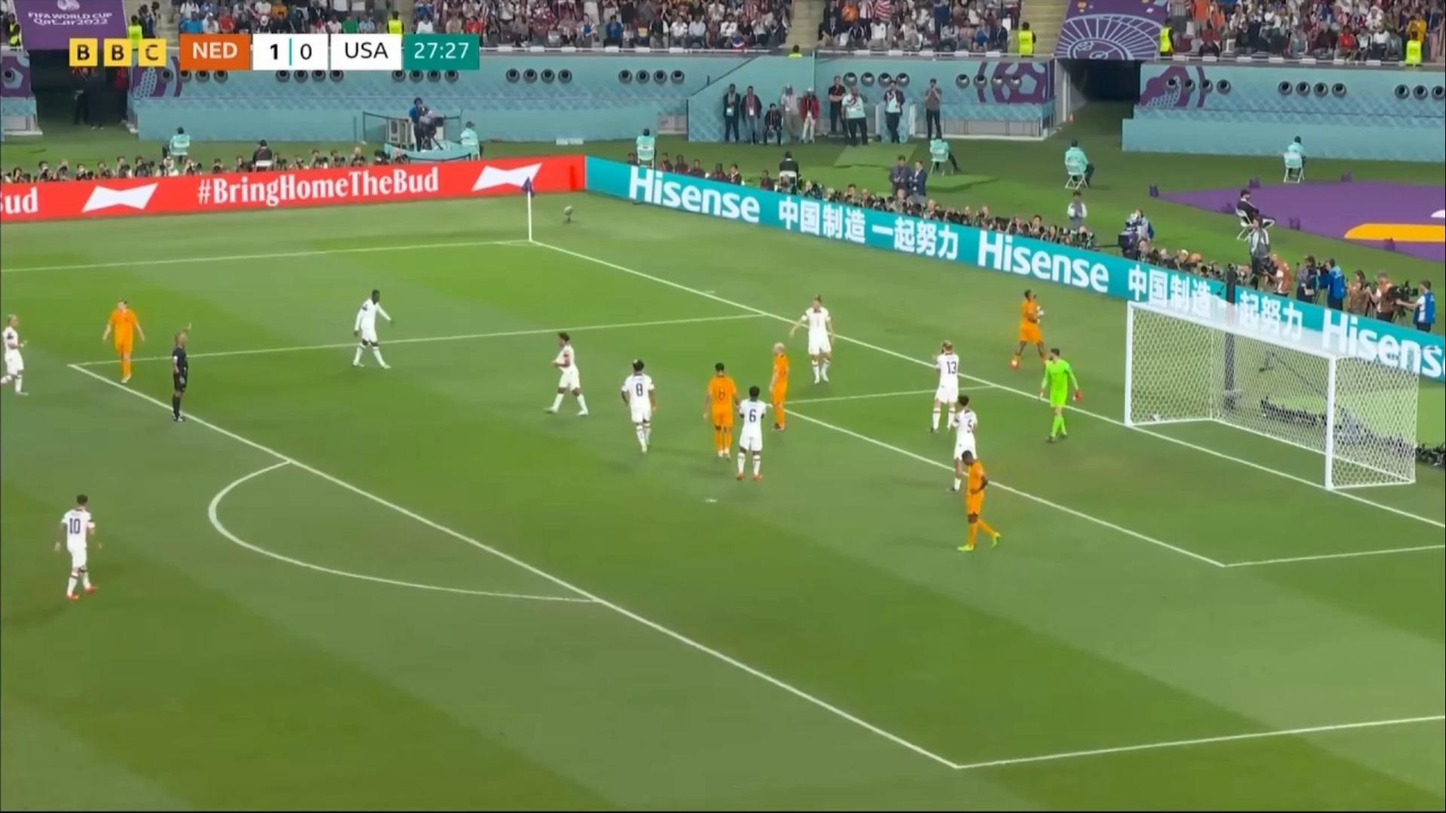Player: (55, 492, 108, 608), (958, 453, 1002, 556), (700, 363, 744, 461), (545, 330, 592, 421), (1039, 347, 1083, 443), (617, 357, 659, 456), (103, 297, 148, 389), (348, 290, 395, 376), (791, 297, 837, 381), (731, 390, 772, 483), (928, 339, 966, 436), (761, 339, 799, 434), (947, 397, 981, 489), (1010, 289, 1047, 370), (4, 315, 34, 402)
Ref: (168, 329, 193, 421)
